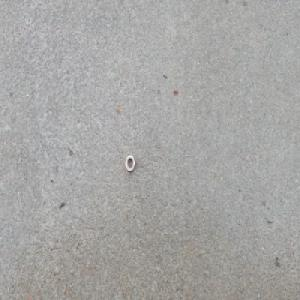Nut: (125, 155, 135, 172)
